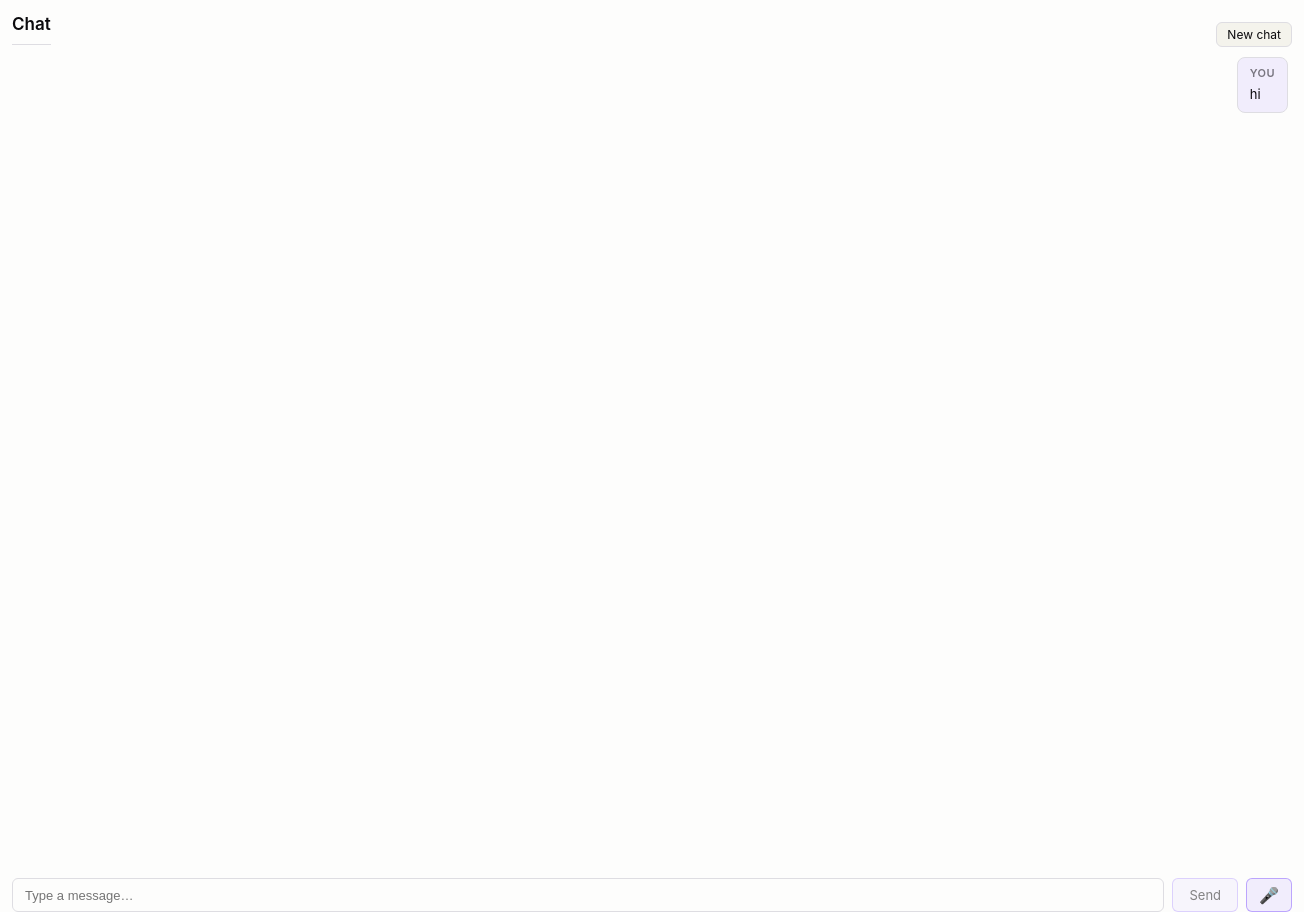
it: ChatPanel session lifecycle (Task A) › New chat clears the active session pointer and cached messages, resetting the view
Check: the text "hi" is shown, box [1250,86,1260,102]
Click the button "New chat" at (1254, 34), box [1216,22,1292,47]
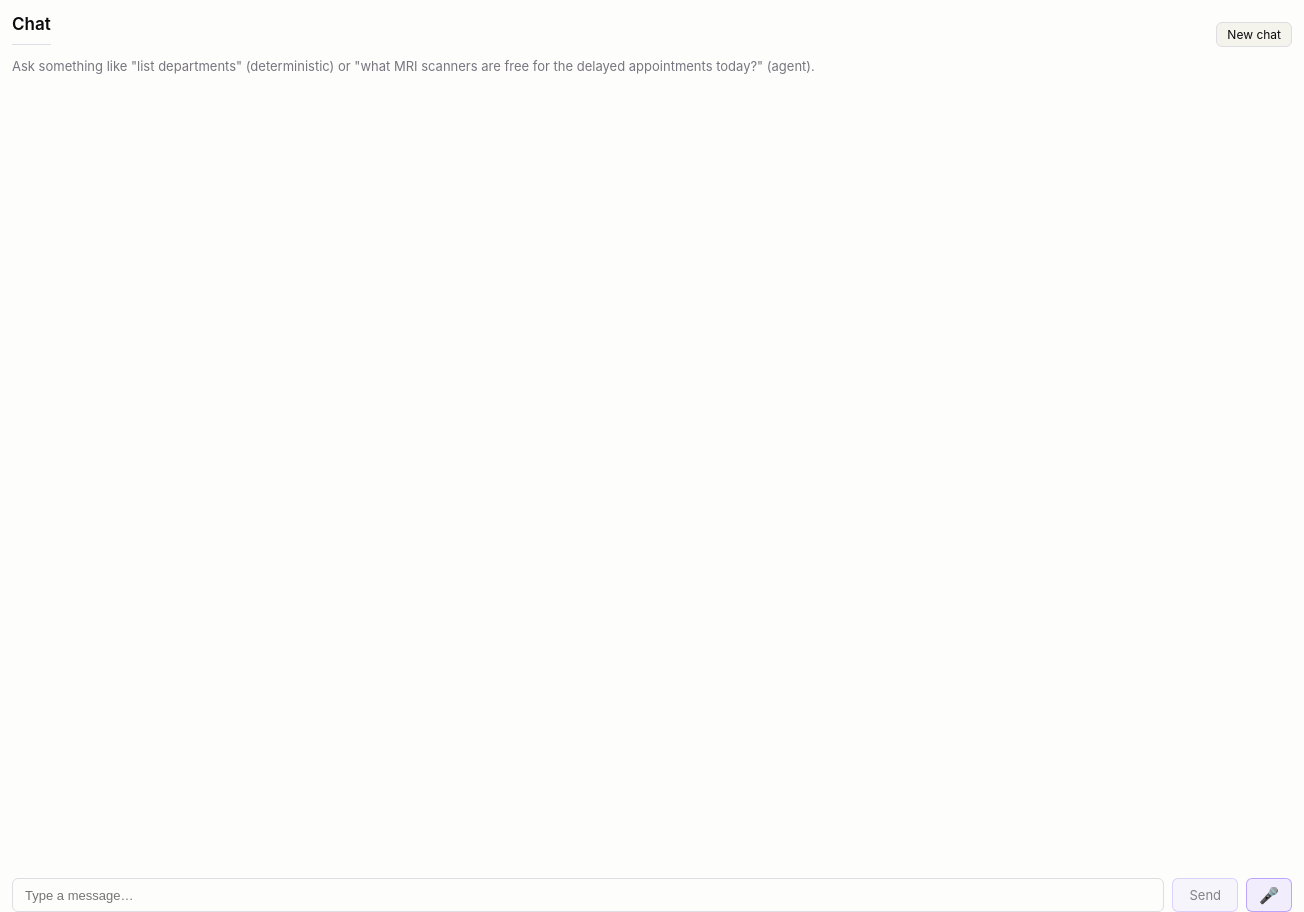
Check: the text "Ask something like" is shown, box [12,58,815,74]
